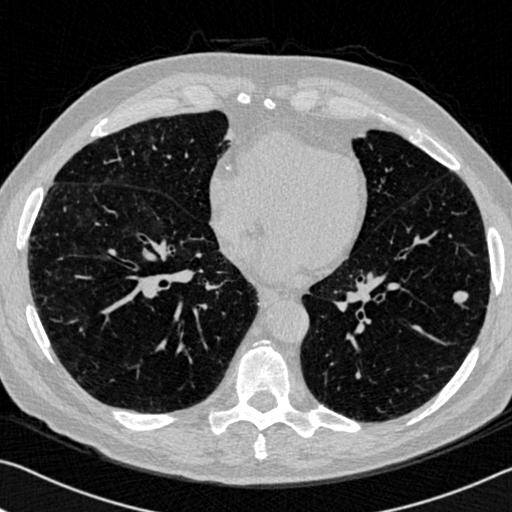nodule: (452, 288, 469, 305)
